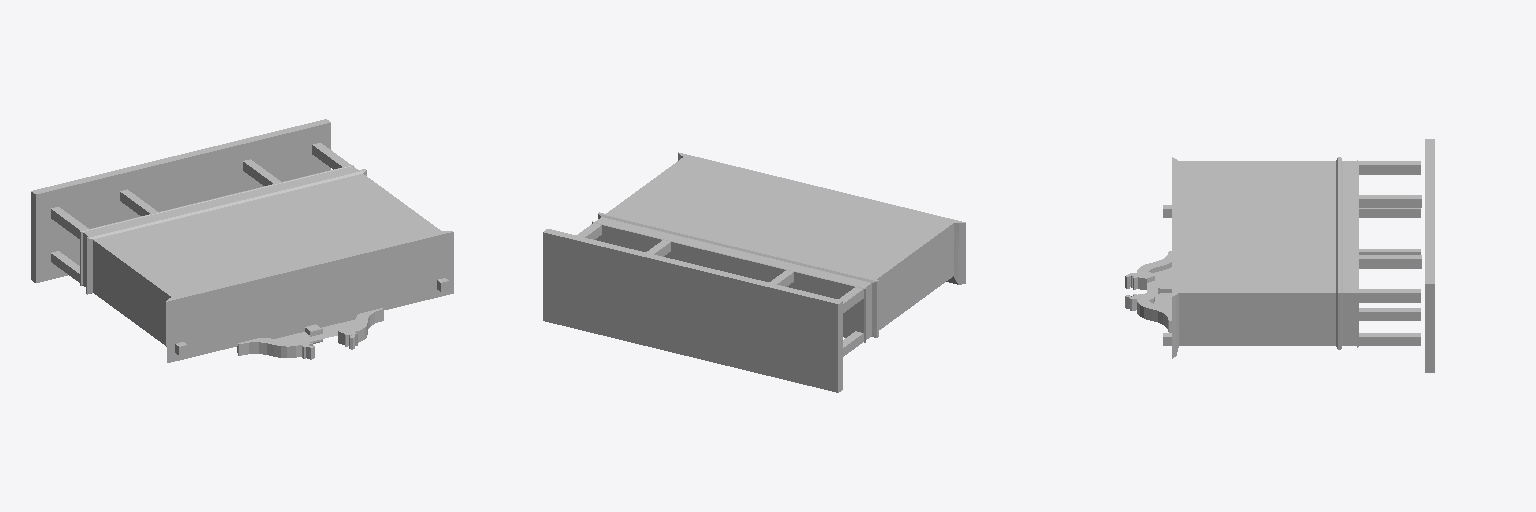
Rendered from cabinet.obj.
The picture shows the model from 3 angles: view 1: azimuth 30°, elevation 25°; view 2: azimuth 150°, elevation 25°; view 3: azimuth 270°, elevation 25°; orthographic projection.
Size of the model in its own units: 18.64 by 5.35 by 16.9.